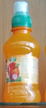orange: (2, 1, 41, 103)
